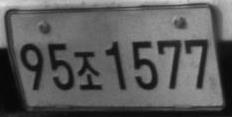1: (103, 39, 129, 89)
5: (47, 43, 75, 91), (132, 40, 158, 91)
7: (184, 38, 209, 90), (159, 40, 182, 89)
9: (19, 42, 45, 90)
조: (75, 51, 102, 90)
